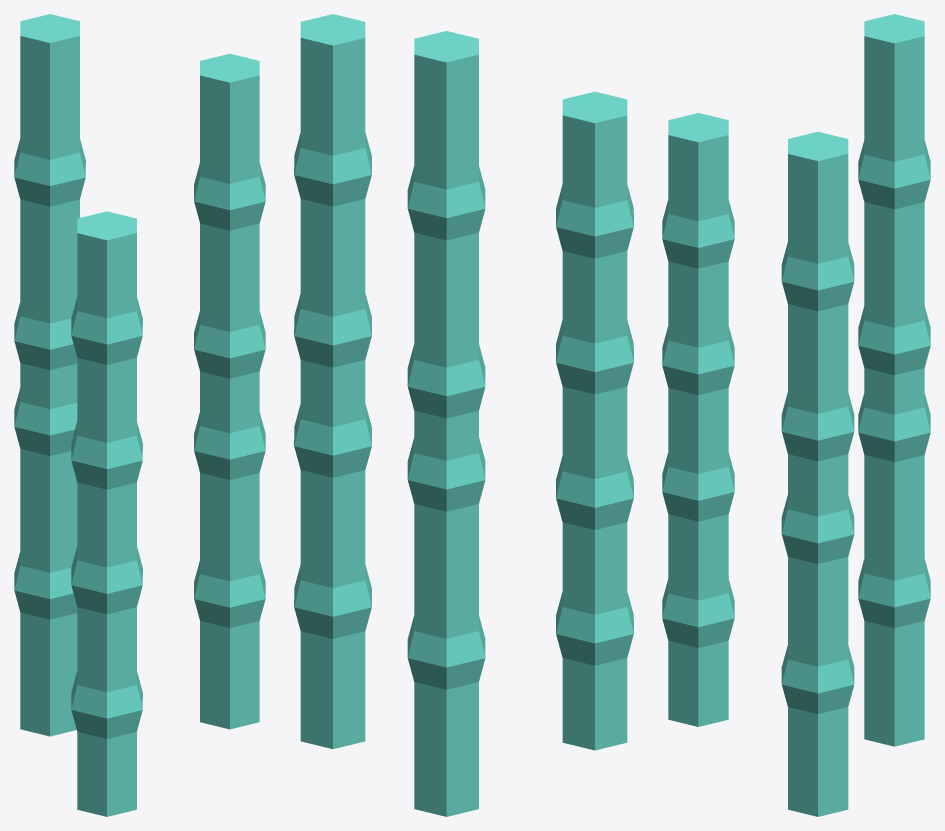
The model's file is crops_bambooStageB.glb.
3 views of the same model, side by side, from view 1: azimuth 30°, elevation 25°; view 2: azimuth 150°, elevation 25°; view 3: azimuth 270°, elevation 25° (orthographic). The views are drawn at different scales.
Parts seen in each view (by area): view 1: crops_bambooStageB; view 2: crops_bambooStageB; view 3: crops_bambooStageB.
Part boxes in pixels (box(x1,y1,x2,y2)): crops_bambooStageB: box(14, 14, 265, 816); crops_bambooStageB: box(294, 14, 633, 816); crops_bambooStageB: box(662, 14, 930, 816).
Bounding box in the file's own units: 0.3401 × 0.89 × 0.308.
